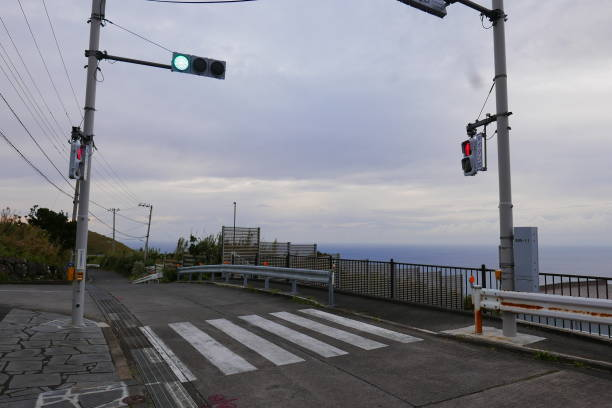trafficlight: (171, 50, 229, 81), (457, 138, 484, 178)
zebracross: (156, 304, 395, 370)
